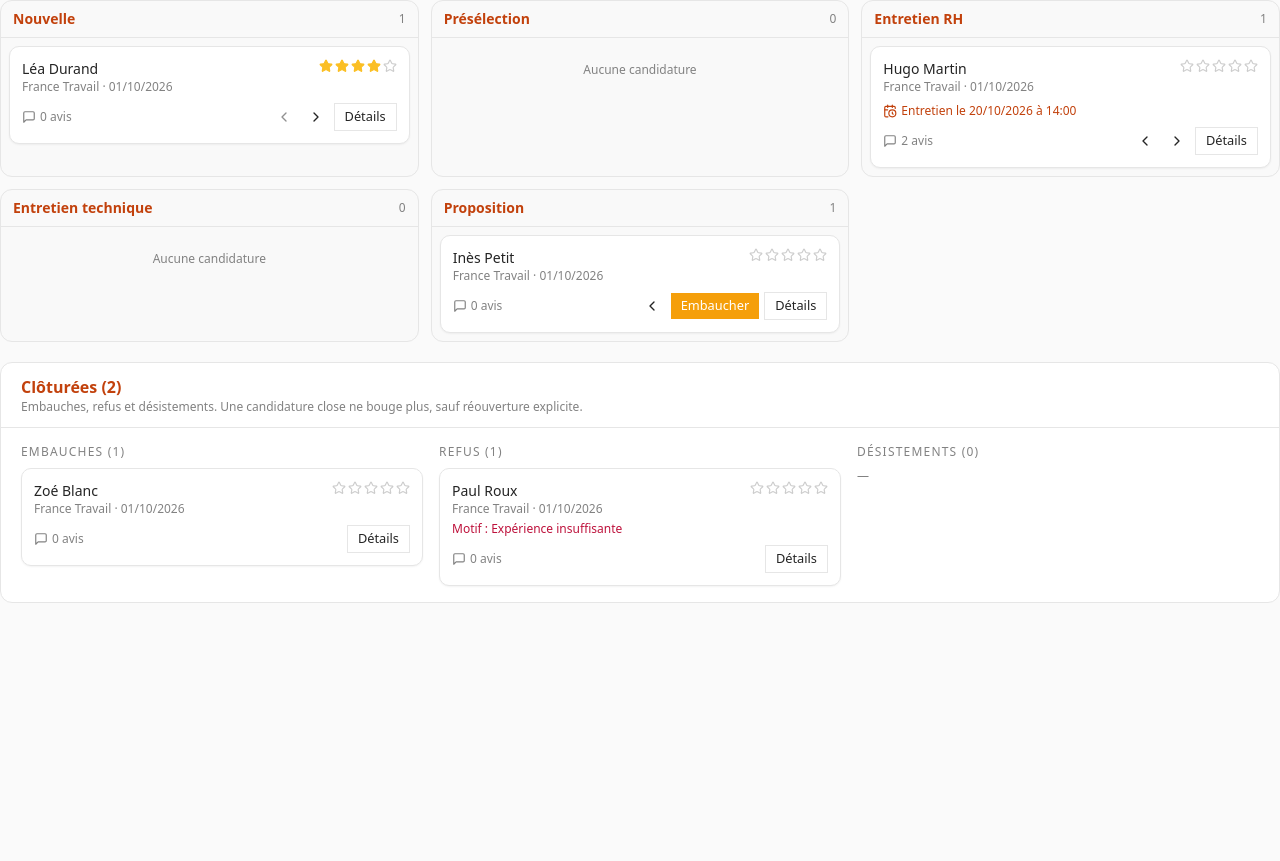
Scenario: PipelineOffre › refus depuis les détails : motif obligatoire
Step 1. Click the button with aria-label "Détails de la candidature de Léa Durand" → (365, 117), box [334,103,397,131]
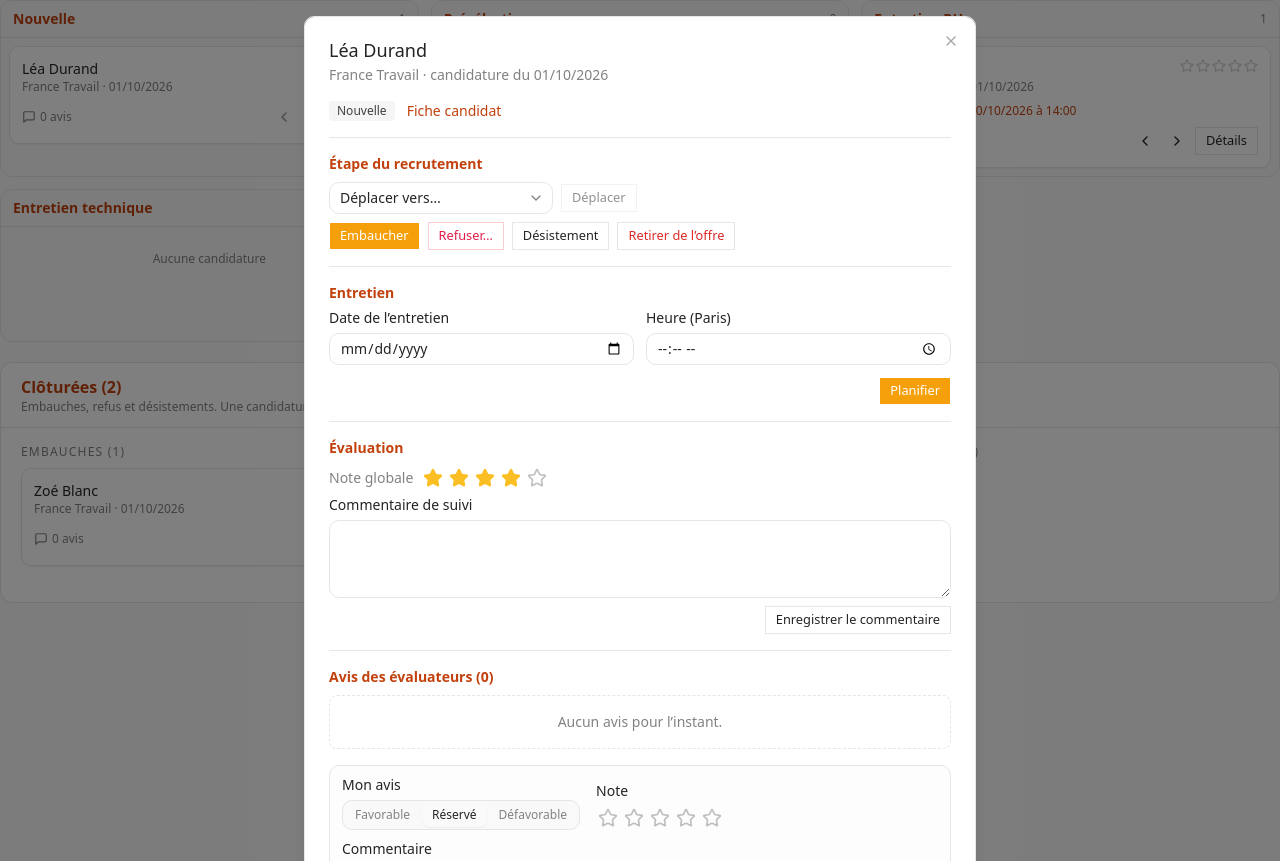
Step 2. Click the button "Refuser…" → (466, 236), box [428,222,504,250]
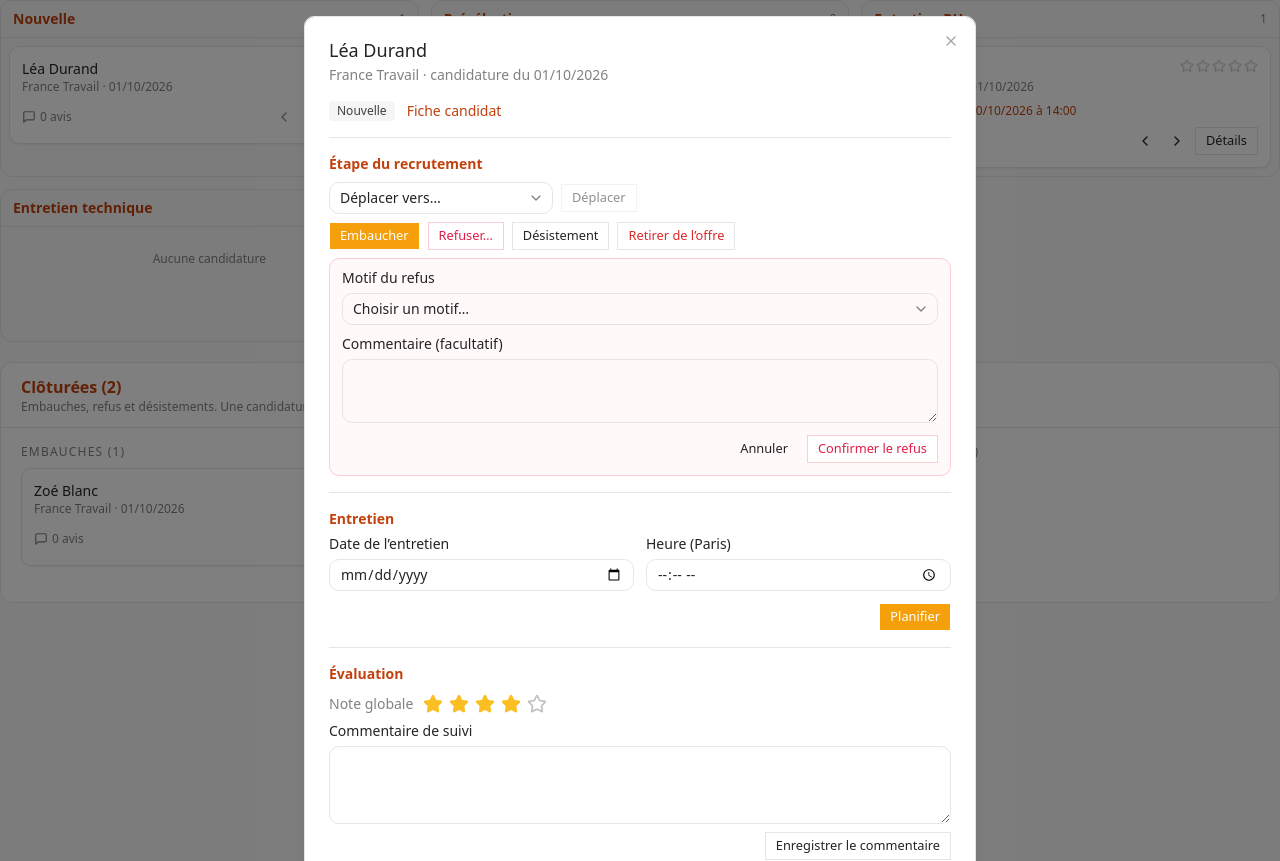
Step 3. Click the button "Confirmer le refus" → (872, 449), box [807,435,938,463]
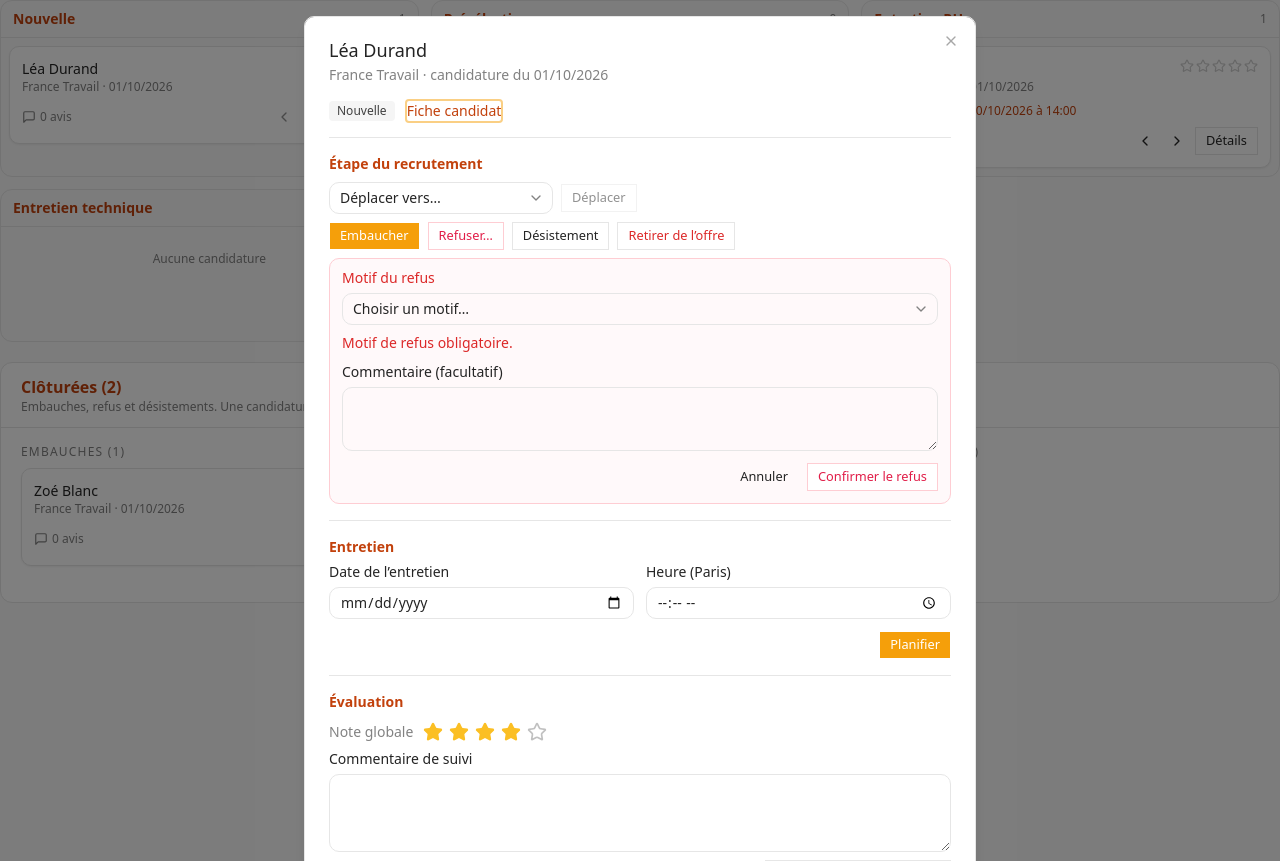
Now the text "Motif de refus obligatoire." is shown, box [342,333,513,352]
